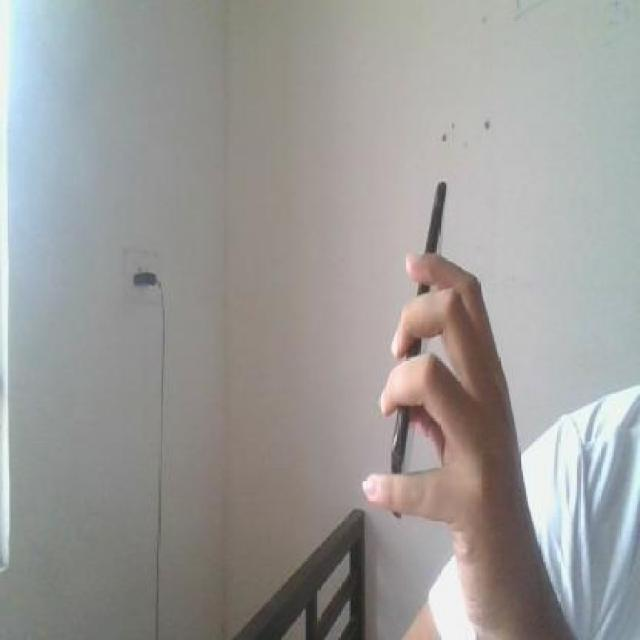Phone: (384, 177, 452, 480)
